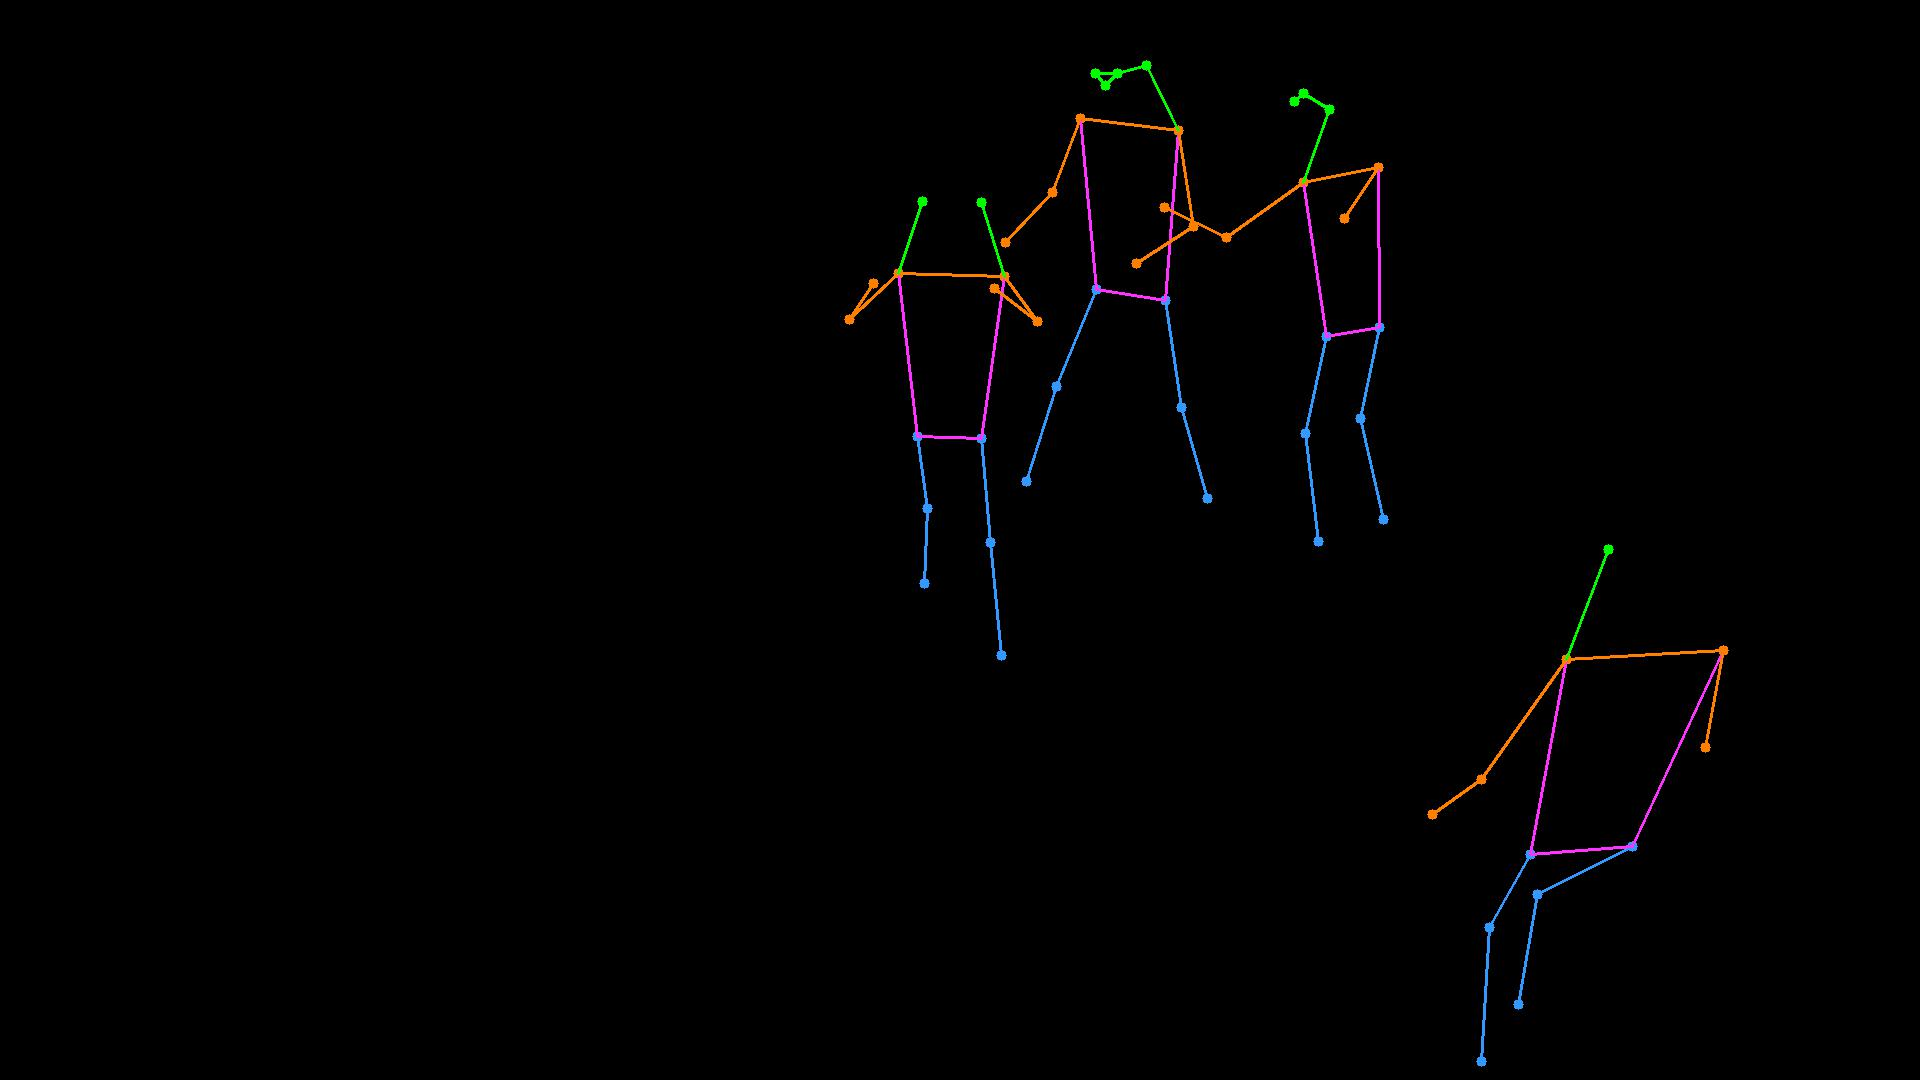normal: (1407, 509, 1782, 1080), (998, 34, 1234, 533), (831, 187, 1067, 678)
